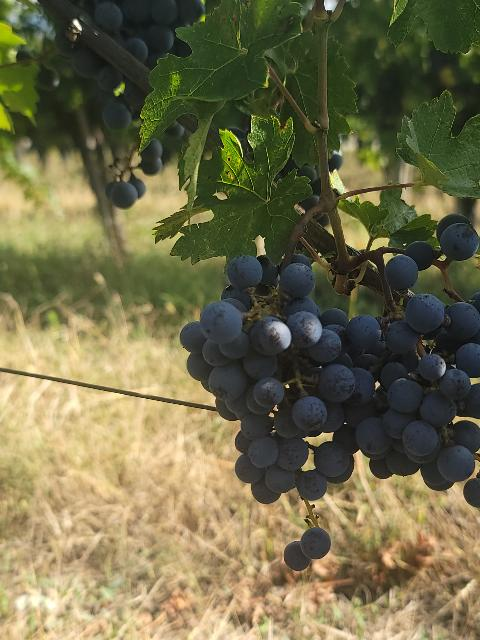grapes: (180, 255, 381, 502), (358, 294, 480, 490)
